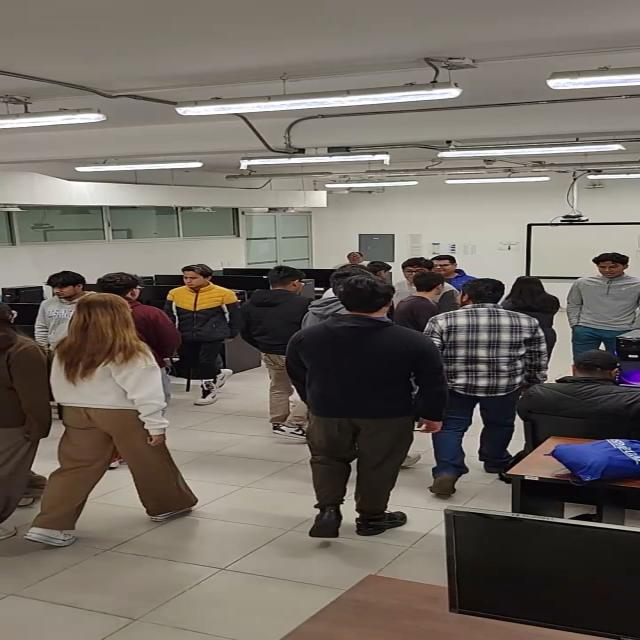Persona: (50, 293, 206, 535), (294, 280, 436, 540), (433, 280, 534, 494), (0, 294, 43, 542), (167, 260, 238, 409), (240, 262, 301, 432), (564, 251, 640, 373), (510, 274, 560, 350), (44, 268, 82, 339), (401, 276, 439, 328)
